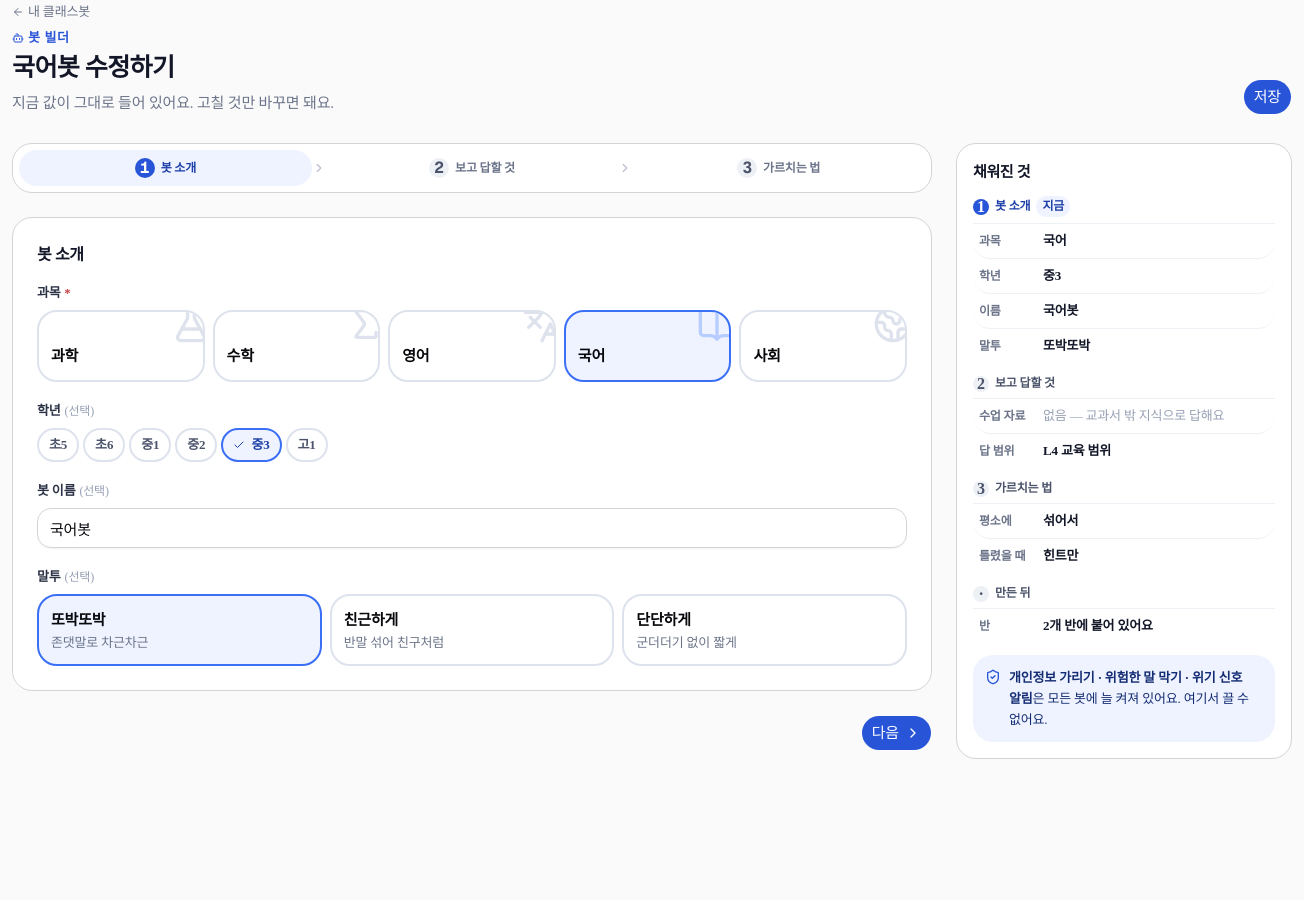
Test: 마당은 빌더와 같이 움직인다 › 규칙을 어기면 「저장」이 막히고 서버를 두드리지 않는다 — 빌더와 같은 판정이다
In the field labelled "봇 이름 (선택)": (472, 528) [37,508,907,548], type "봇"
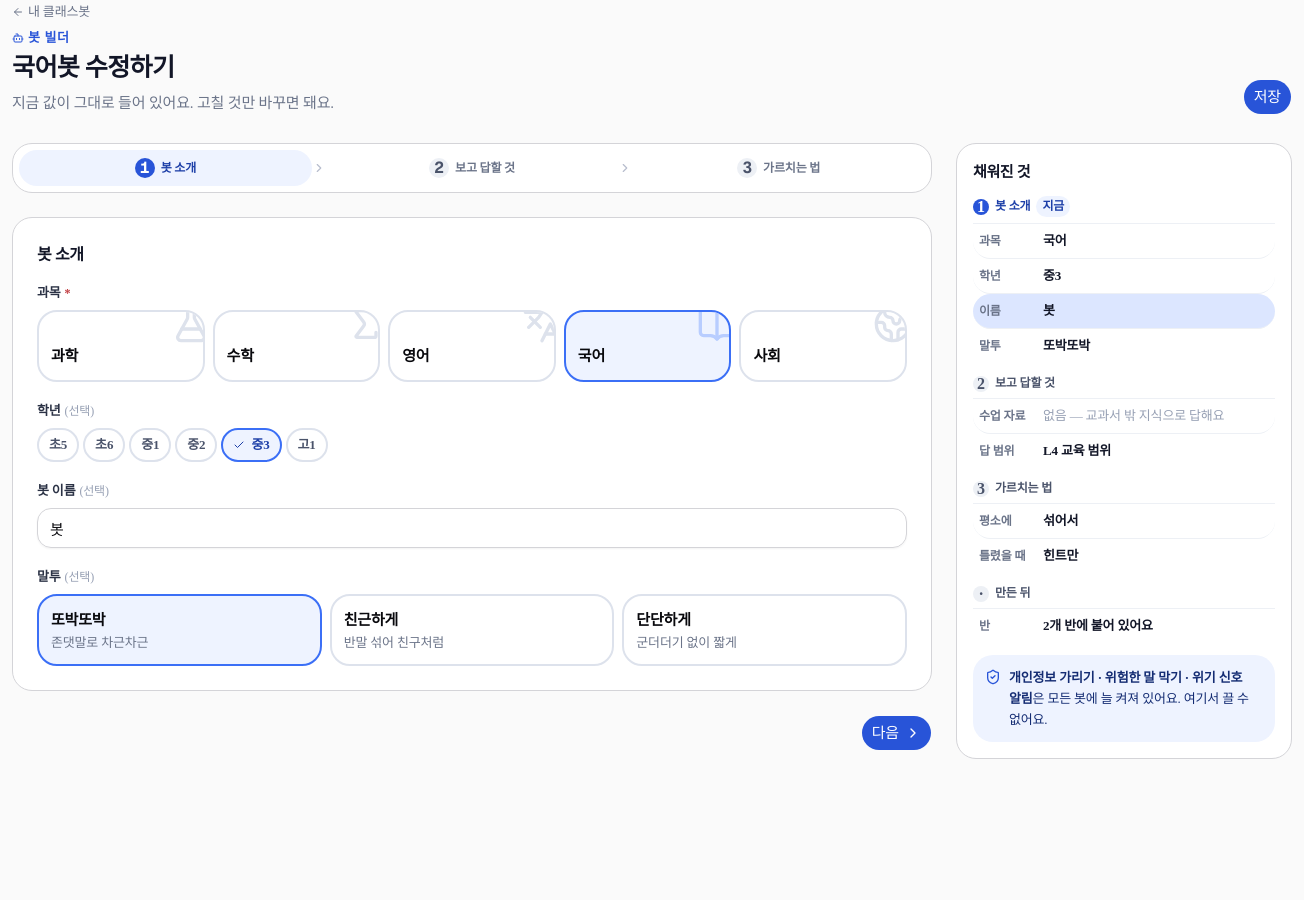
Click the button with aria-label "고친 그대로 저장하기": (1267, 97) [1243,79,1292,115]
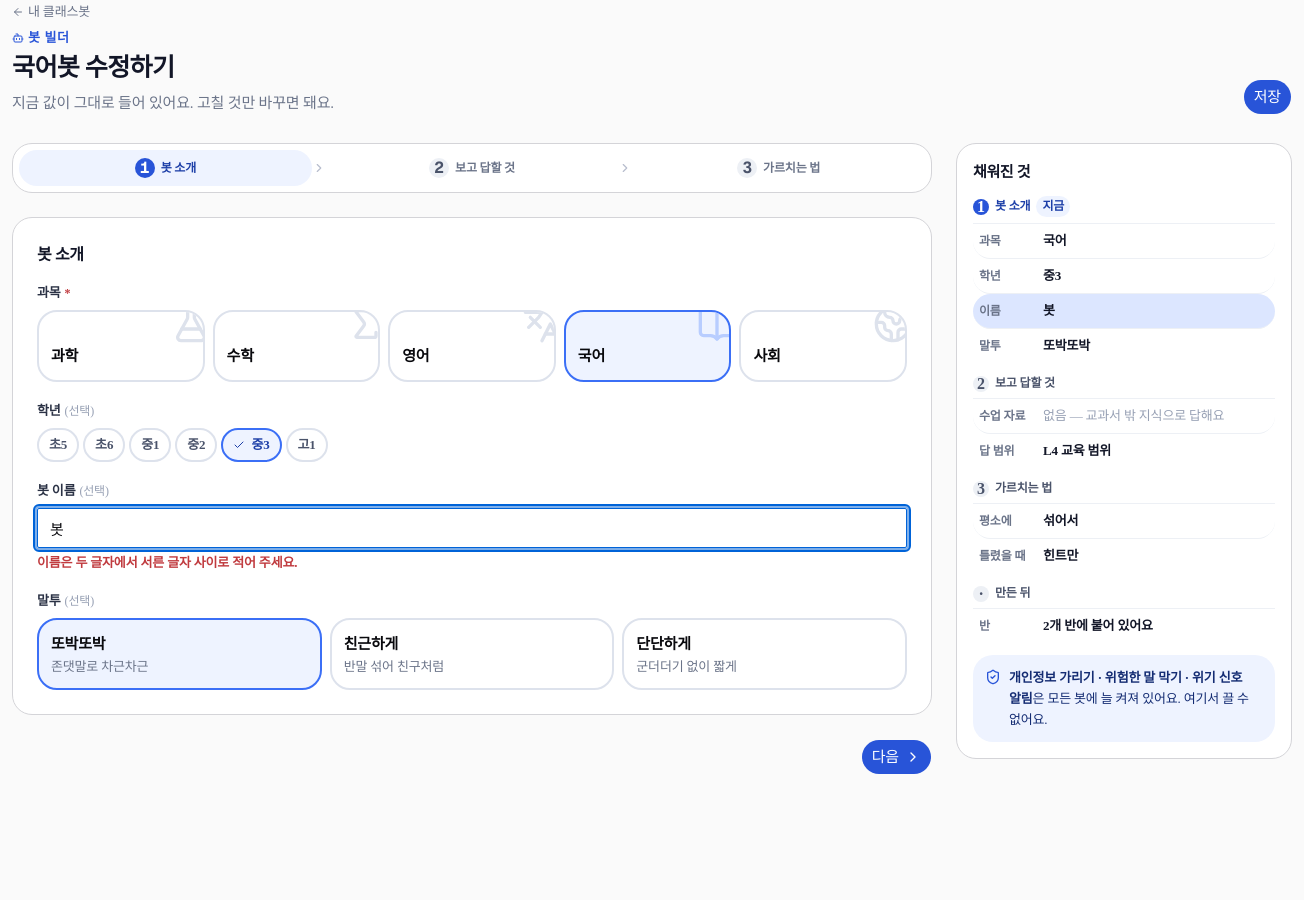
Now the message shows "이름은 두 글자에서 서른 글자 사이로", box [37,555,297,570]
